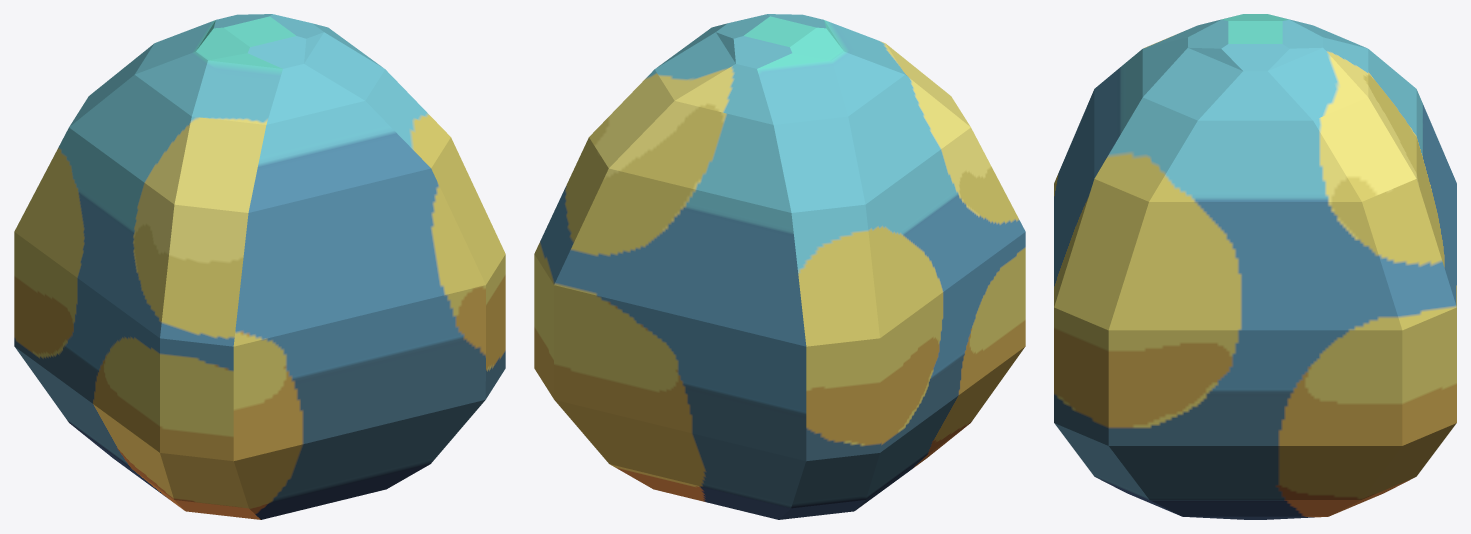
The model's file is WeirdEgg.fbx.
3 views of the same model, side by side, from view 1: azimuth 30°, elevation 25°; view 2: azimuth 150°, elevation 25°; view 3: azimuth 270°, elevation 25° (orthographic).
Visible parts, largest first — view 1: Cube; view 2: Cube; view 3: Cube.
Boxes of the visible parts, box(x1,y1,x2,y2) form: Cube: box(14, 14, 505, 519); Cube: box(534, 14, 1025, 519); Cube: box(1054, 14, 1456, 519).
Bounding box in the file's own units: 360 × 454 × 360.
1 material, 1 textured.
